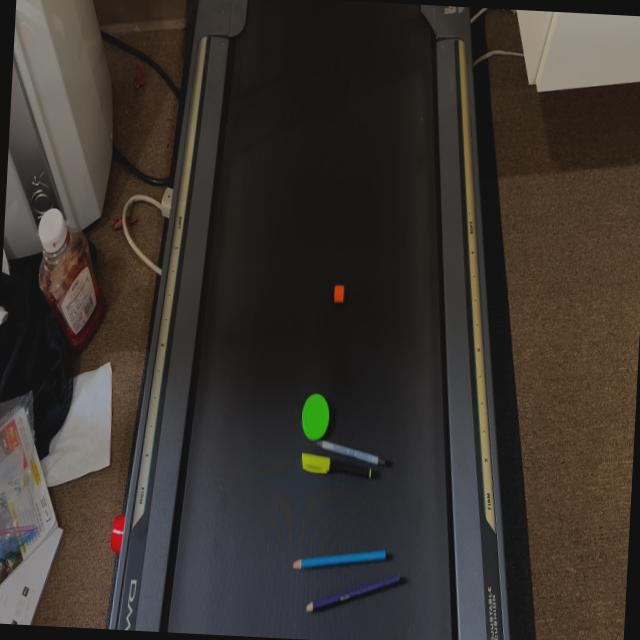Recycle: (300, 390, 332, 442), (331, 282, 346, 306)
Trash: (304, 568, 402, 620), (291, 542, 387, 576), (319, 432, 392, 467), (301, 450, 374, 480)
